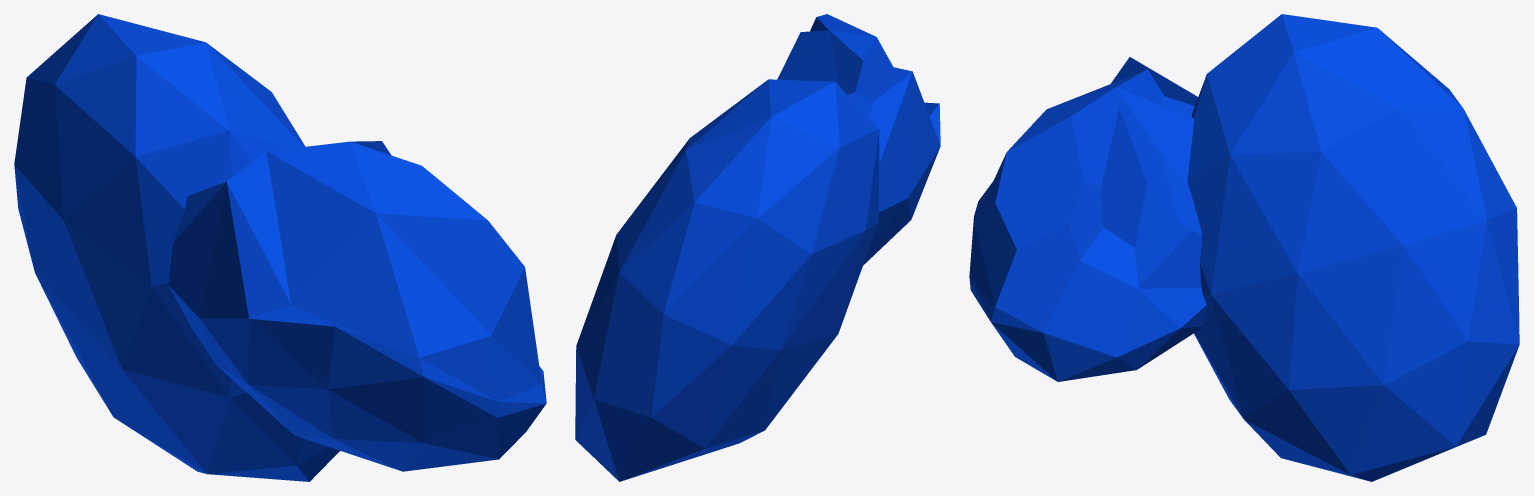
Rendered from lvl1goodrock.fbx.
3 views of the same model, side by side, from view 1: azimuth 30°, elevation 25°; view 2: azimuth 150°, elevation 25°; view 3: azimuth 270°, elevation 25° (orthographic). The views are drawn at different scales.
Visible parts, largest first — view 1: Icosphere.005, Icosphere.006; view 2: Icosphere.006, Icosphere.005; view 3: Icosphere.006, Icosphere.005.
Boxes of the visible parts, <box> form: Icosphere.005: <box>168,141,546,471</box>; Icosphere.006: <box>14,14,339,481</box>; Icosphere.006: <box>575,79,879,481</box>; Icosphere.005: <box>777,14,940,265</box>; Icosphere.006: <box>1187,14,1519,481</box>; Icosphere.005: <box>969,57,1206,381</box>.
Bounding box in the file's own units: 2807 × 4035 × 5281.
